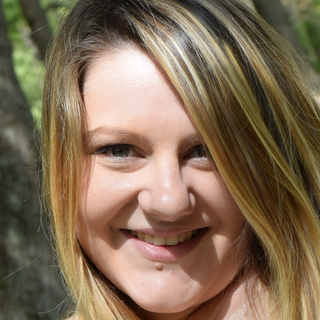eye: (83, 135, 154, 169), (175, 140, 230, 169)
